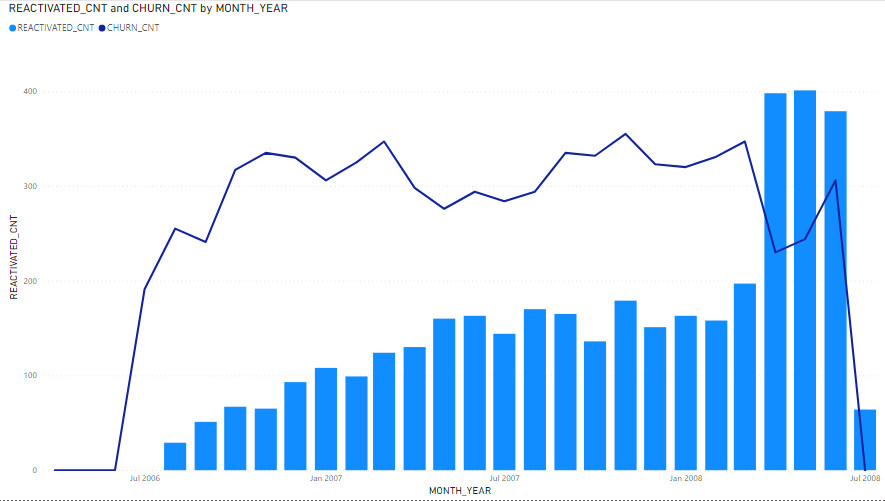

What the dashboard file says about the page in this screenshot:
{"tool":"powerbi","page":{"name":"Churn vs Reactive","canvas":[1280,720],"ordinal":2},"visuals":[{"type":"lineStackedColumnComboChart","fields":{"Y":["Sum(bq-results-20210725-103147-guc84lx0f1h9.REACTIVATED_CNT)"],"Category":["bq-results-20210725-103147-guc84lx0f1h9.MONTH_YEAR"],"Y2":["Sum(bq-results-20210725-103147-guc84lx0f1h9.CHURN_CNT)"]},"box":[10.1,0,1269.7,720],"z":0}]}

Visuals, with their boxes in screenshot pixels (x1, y1, x2, y2), scaled from the page's 1280x720 canvas onto the 885x501 screenshot:
lineStackedColumnComboChart - Sum(bq-results-20210725-103147-guc84lx0f1h9.REACTIVATED_CNT) x bq-results-20210725-103147-guc84lx0f1h9.MONTH_YEAR: <region>7, 0, 884, 500</region>
